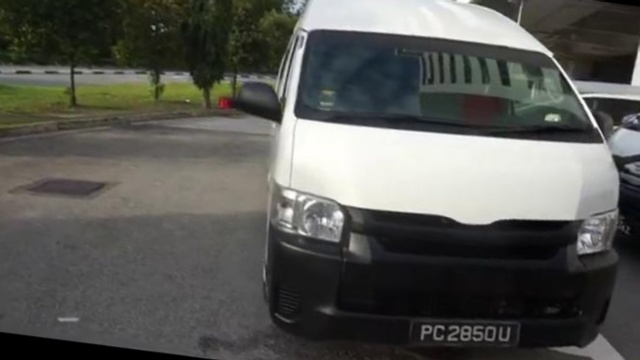van: (229, 0, 640, 360)
